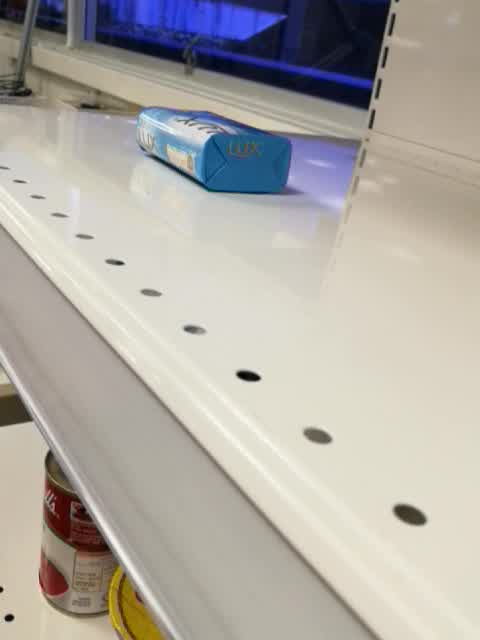soap: (135, 104, 292, 195)
